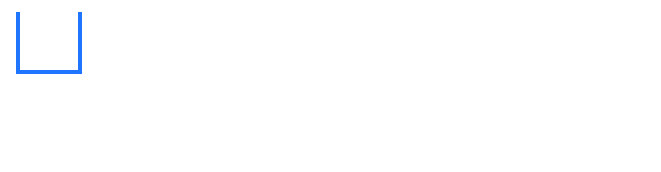
Test: TiledInput › renders letters of guess in 1 tile per letter with blank tiles for any letters remaining
This screenshot has width=661, height=172.
Type "some" into the field named "1st" at (48, 41), box 20,12 -> 78,70
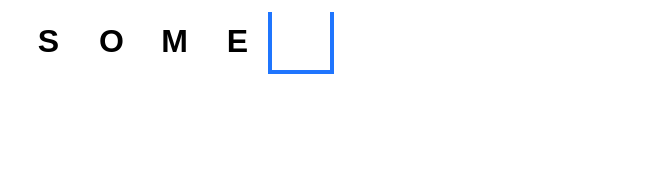
Now the field named "1st letter" holds "s", box 20,12 -> 78,70
Now the field named "2nd letter" holds "o", box 82,12 -> 140,70
Now the field named "3rd letter" holds "m", box 146,12 -> 204,70
